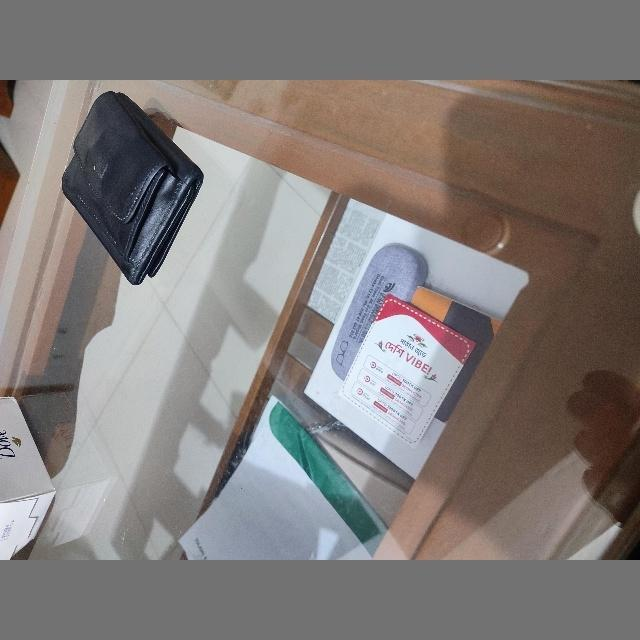Wallet: (62, 92, 206, 284)
